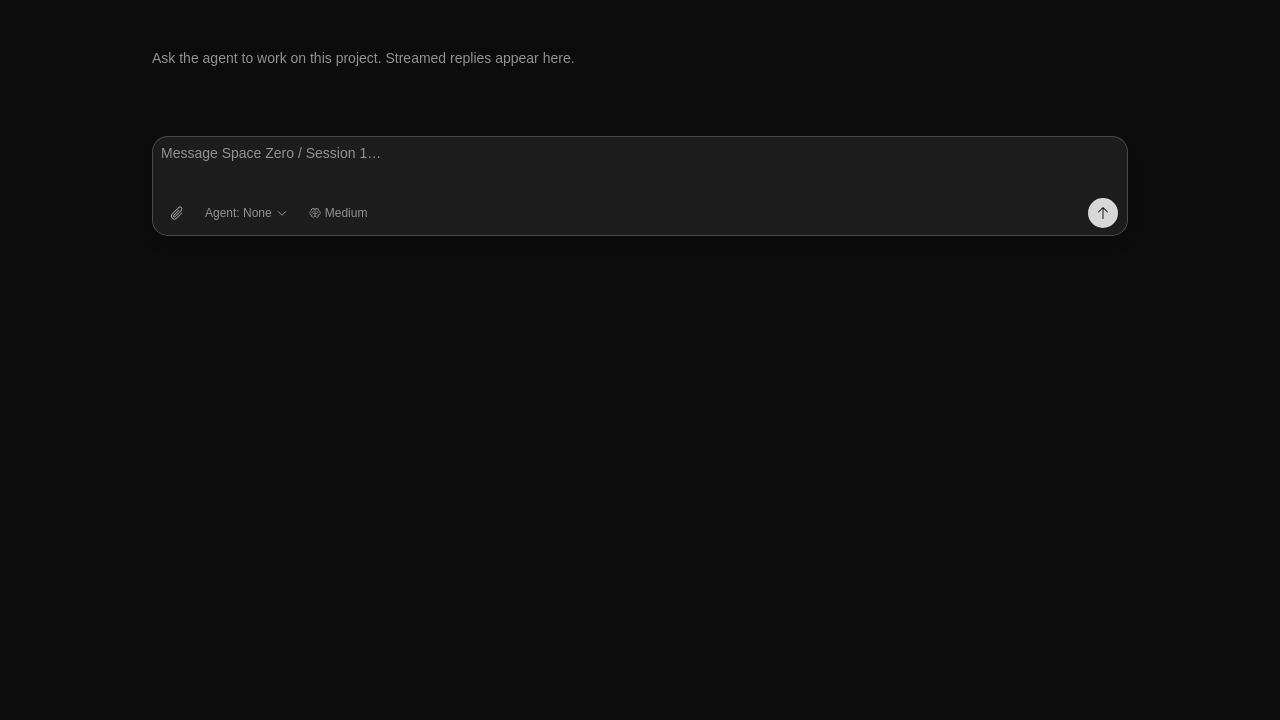
Test: ProjectSessionHostSurface › surfaces Agent Definition application failures without losing the submitted prompt
Click the button with aria-label "Agent Definition: None": click(246, 213) [197, 201, 296, 225]
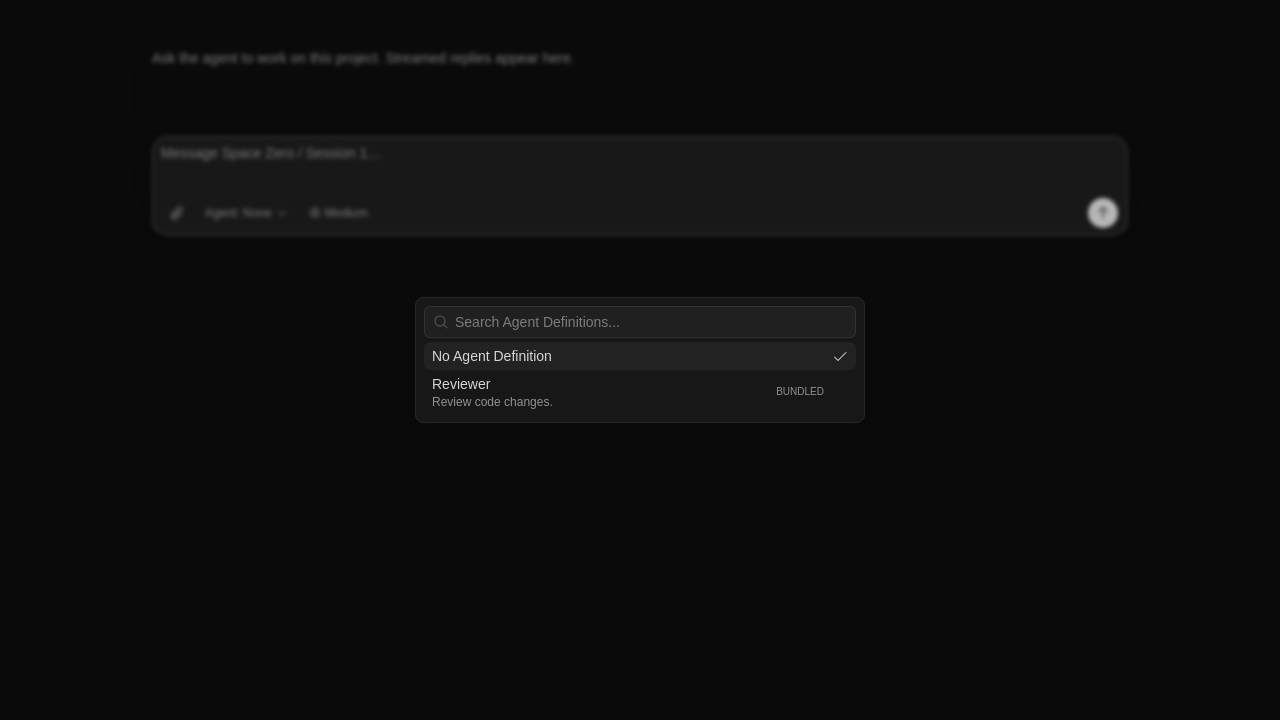
Click the option "Reviewer Review code changes. bundled": click(461, 384) [424, 370, 856, 414]
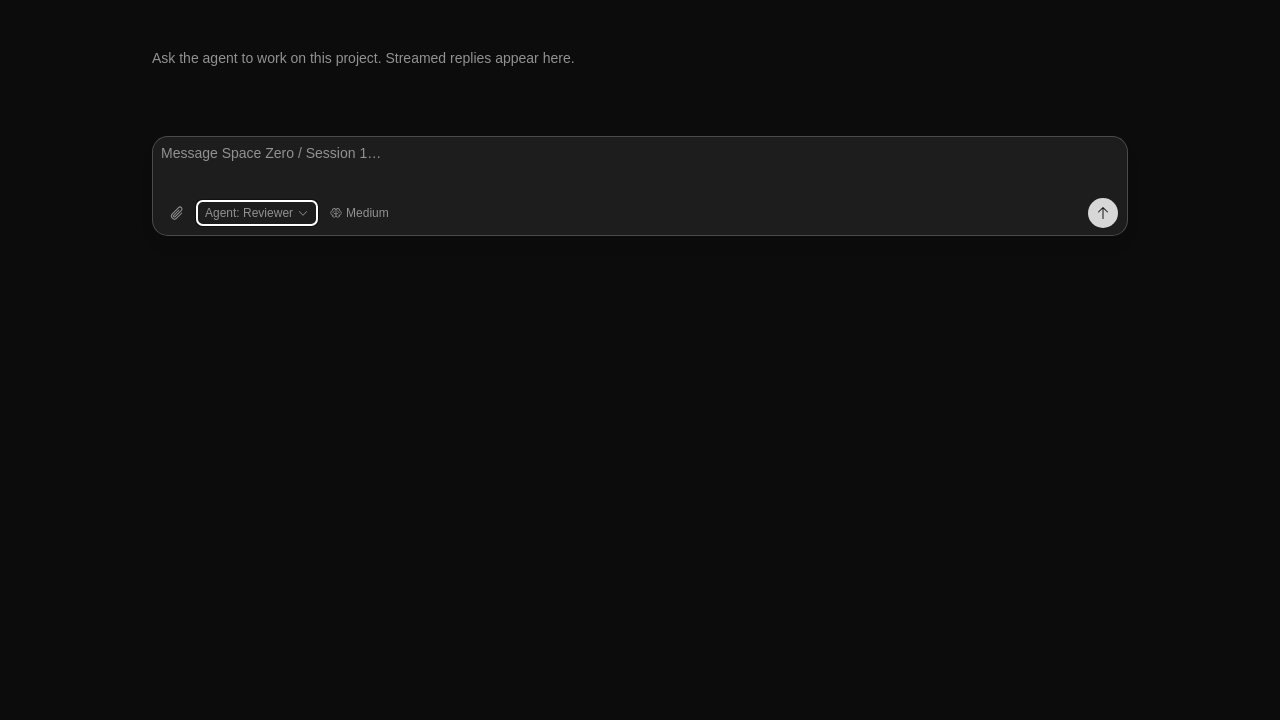
In the text box named "Agent prompt": (640, 165) [153, 137, 1127, 193], type "review this"
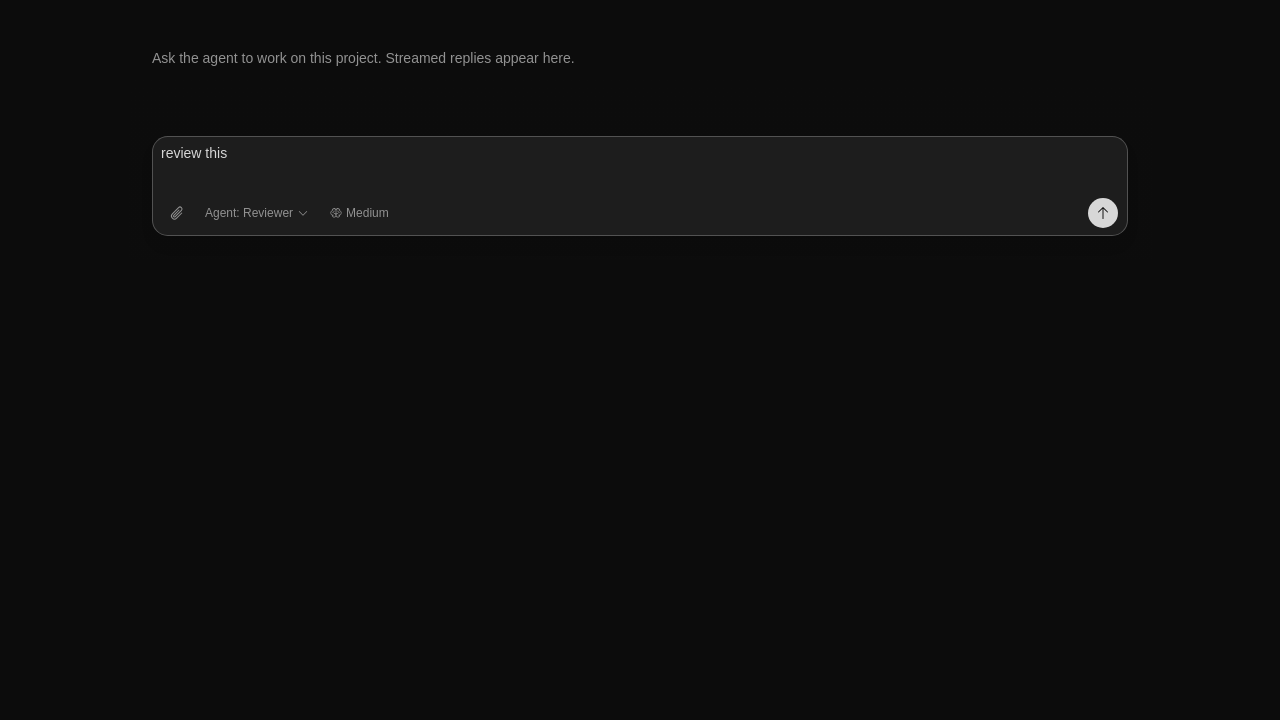
Click the button named "Send message": click(1103, 213) [1087, 197, 1119, 229]
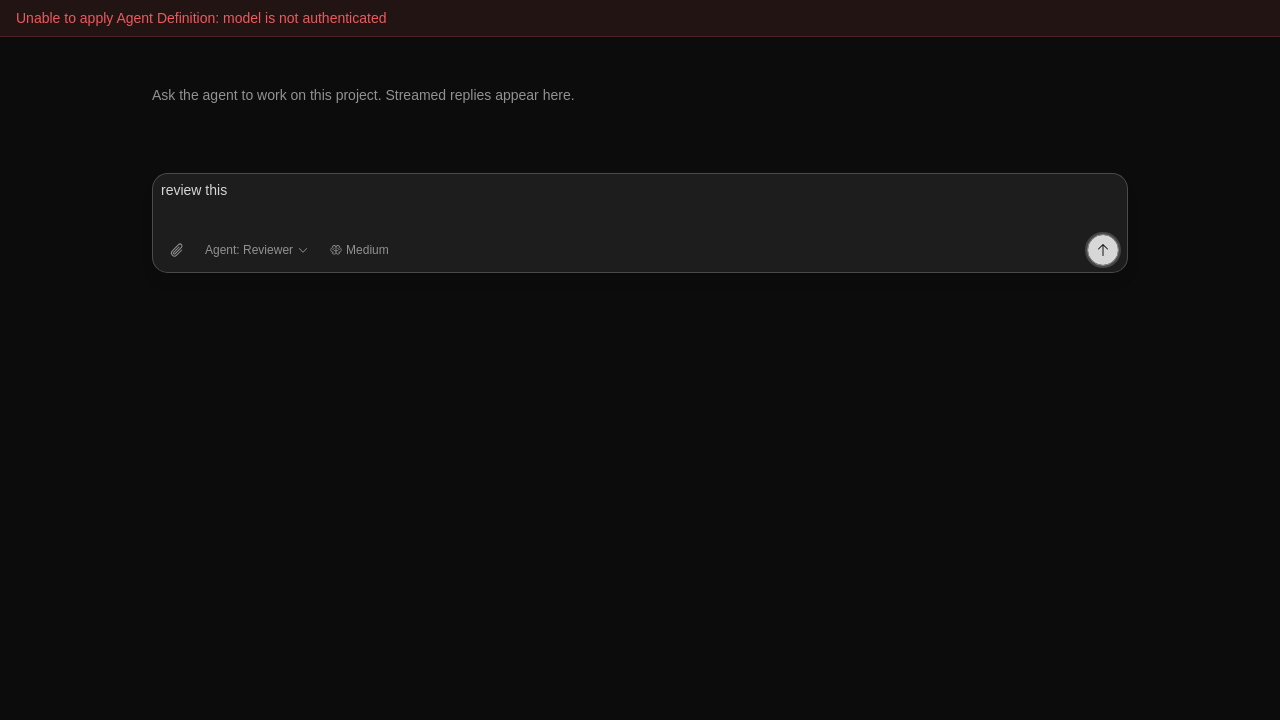
Now the message reads "Unable to apply Agent Definition: model is not authenticated", box [16, 10, 386, 26]
